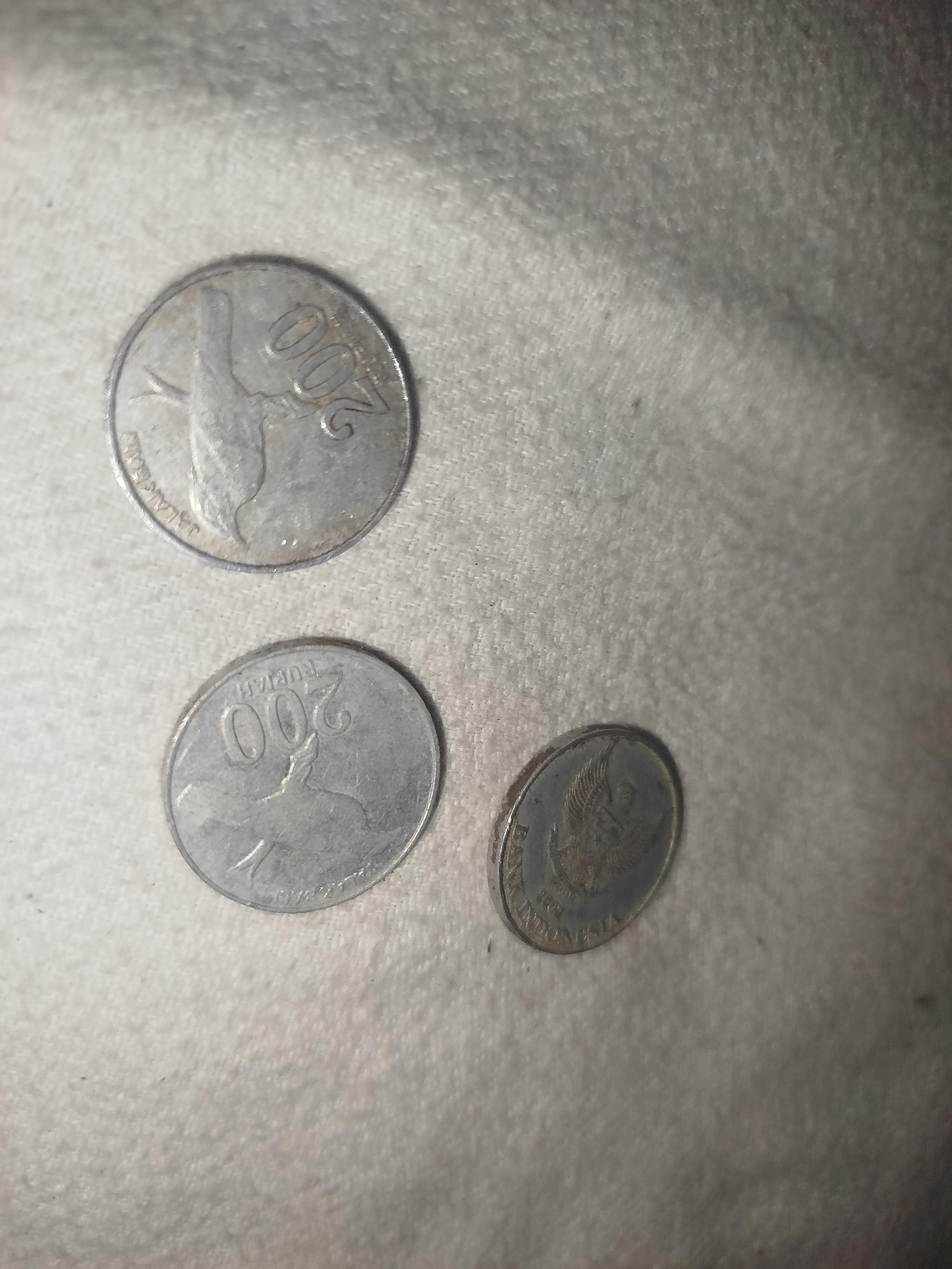coin_200_e2003: (109, 252, 421, 575), (157, 641, 444, 916), (486, 716, 685, 959)
